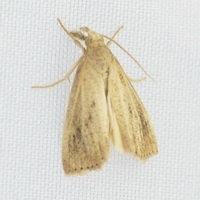insect: (34, 19, 157, 173)
